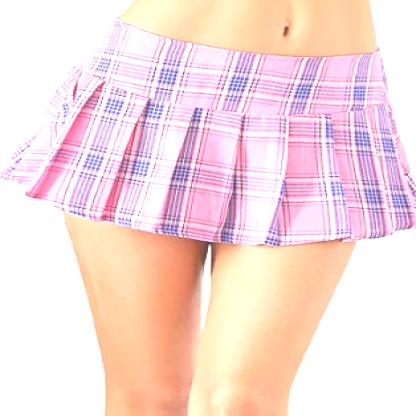jacket: (2, 13, 416, 254)
